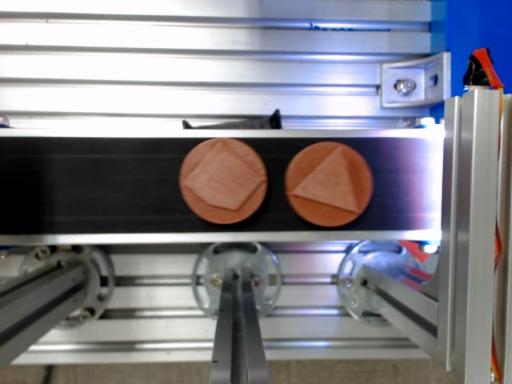Brown_Waper: (179, 138, 267, 223), (285, 142, 373, 226)
